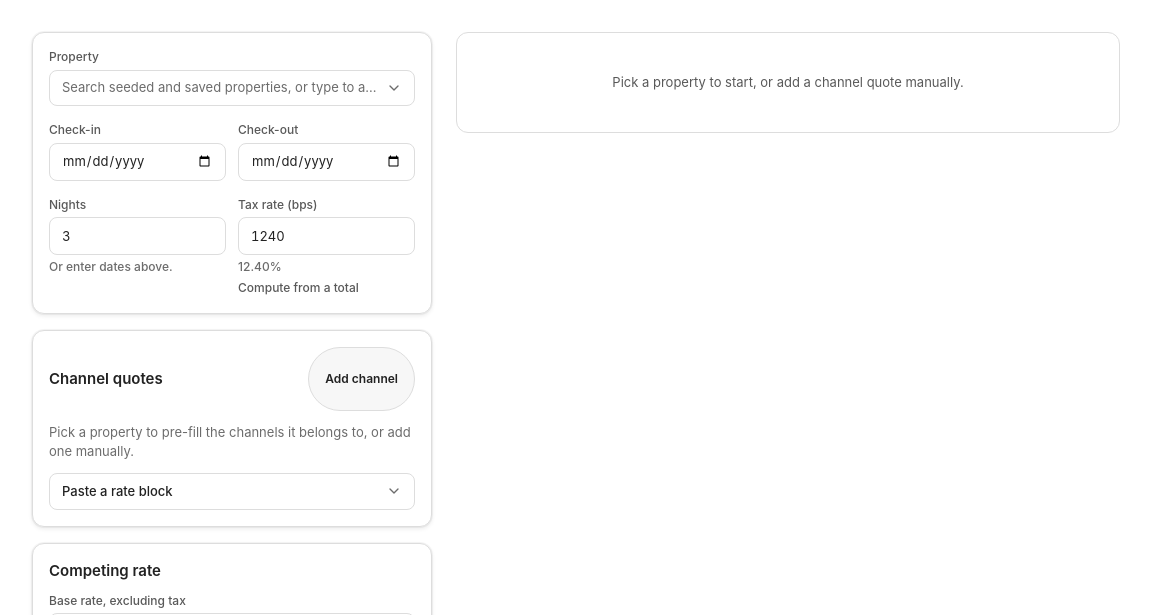
Test: CompareScreen — Defect D: the tax-rate calculator carries its total to a quote row › fills the first empty quote row when "use as a quote total" is pressed
Click the button "Add channel".
click(362, 379)  # box top-left (308, 347), bottom-right (415, 411)
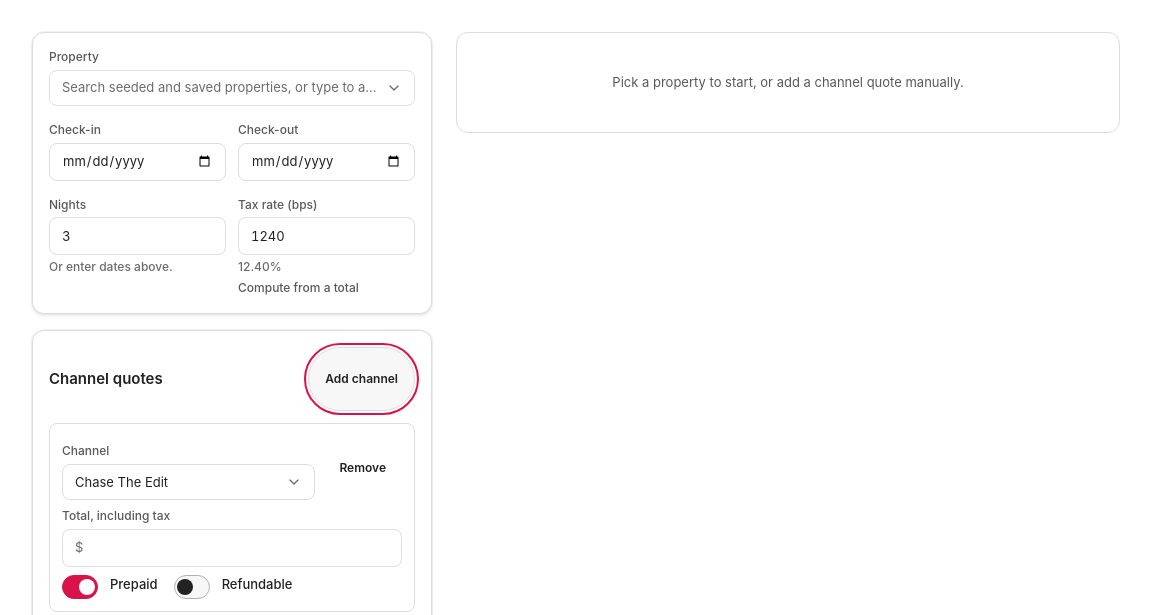
Click the button "Compute from a total".
click(298, 289)  # box top-left (238, 280), bottom-right (359, 297)
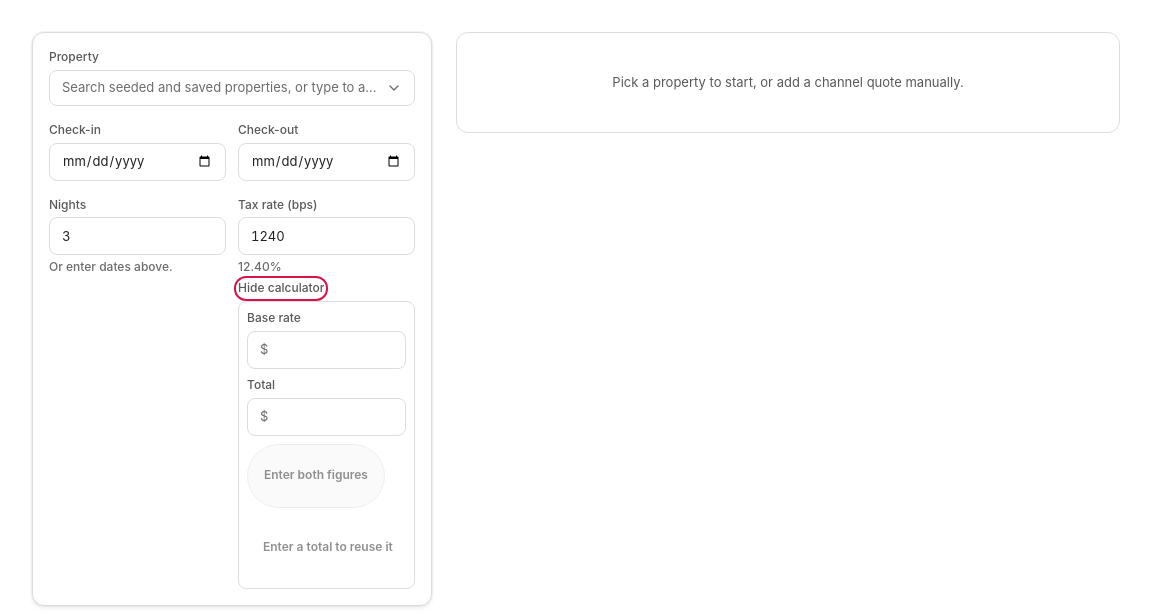
Type "1000" into the field labelled "Base rate".
click(335, 350); type("1000")  # box top-left (276, 332), bottom-right (393, 368)
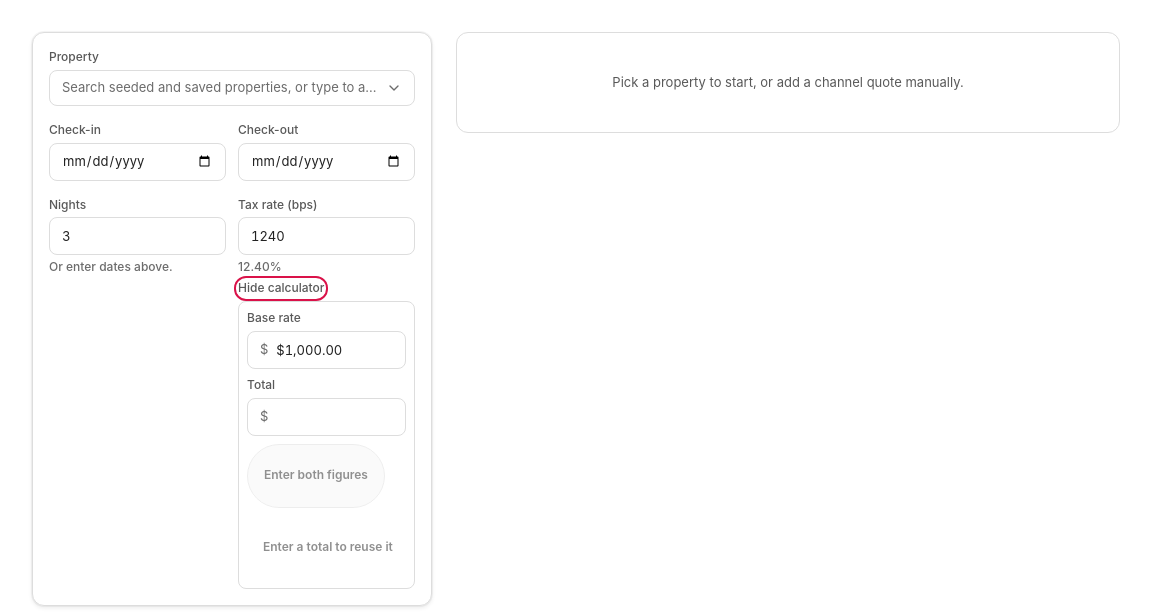
Type "1200" into the field labelled "Total".
click(335, 417); type("1200")  # box top-left (276, 399), bottom-right (393, 435)
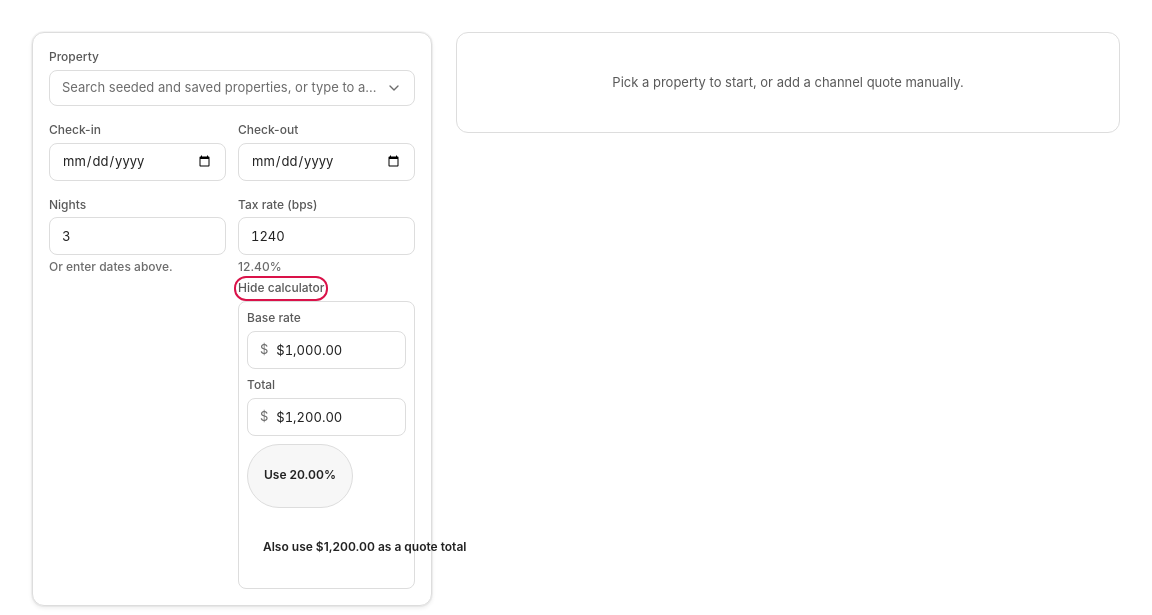
Expected: the button "Use 20.00%" is enabled, top-left (247, 444), bottom-right (353, 508)
Click the button "Also use $1,200.00 as a quote total".
click(365, 548)  # box top-left (247, 516), bottom-right (482, 580)
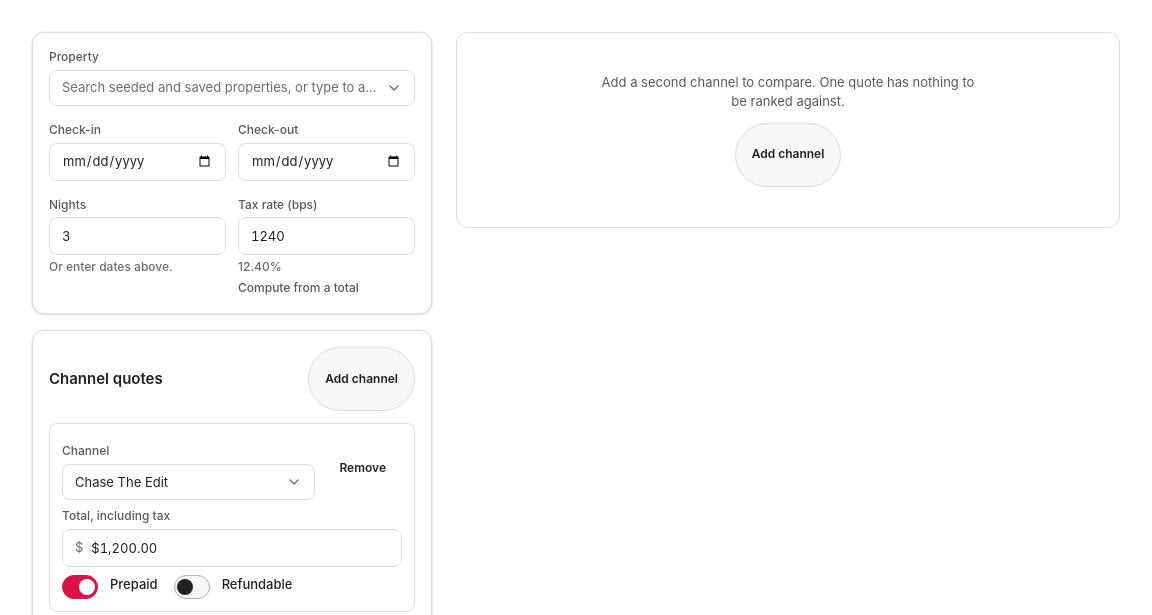
Expected: the field labelled "Total, including tax" holds "$1,200.00", top-left (91, 530), bottom-right (389, 566)
